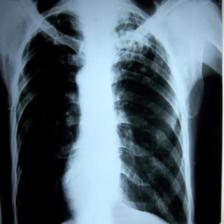tuberculosis: (9, 1, 194, 224)
